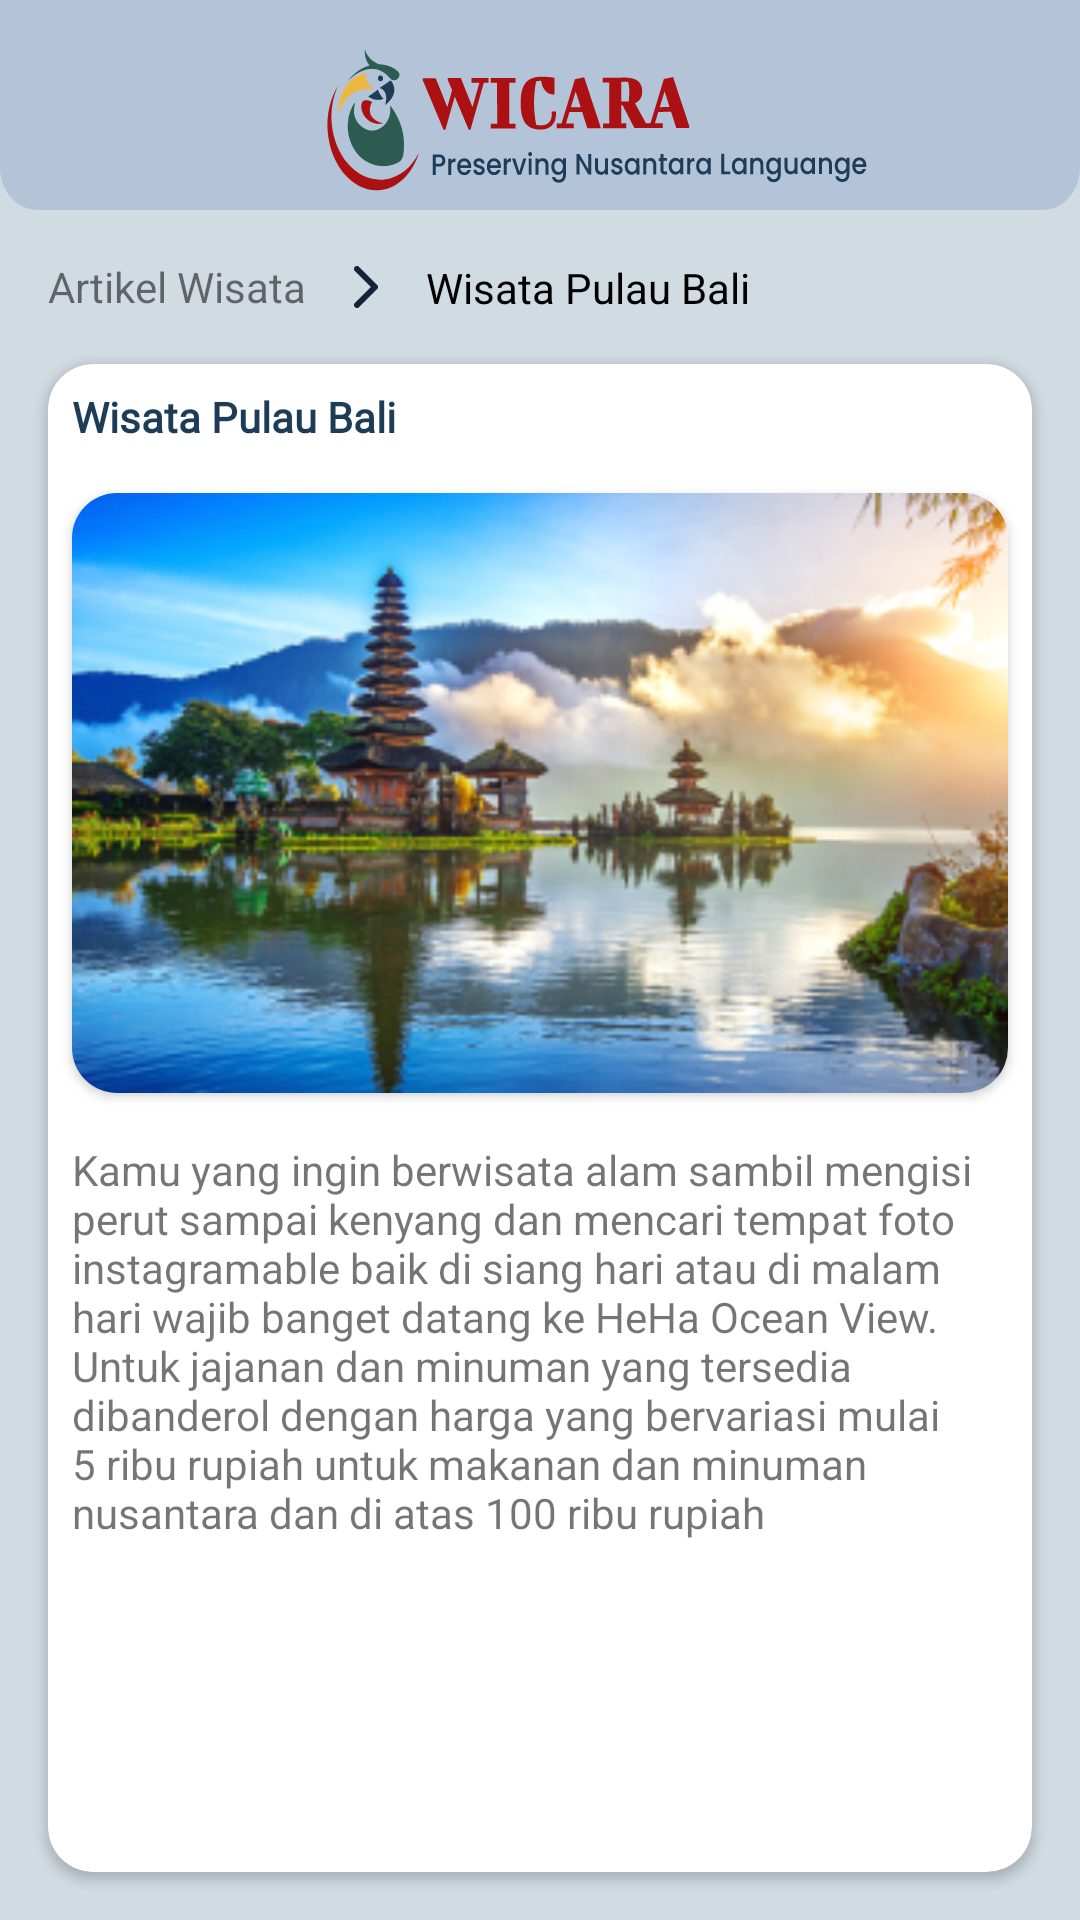

Icons on this 1080px x 1920px Android screen, each with the point to tap as [x,y]:
next: [366,287]
